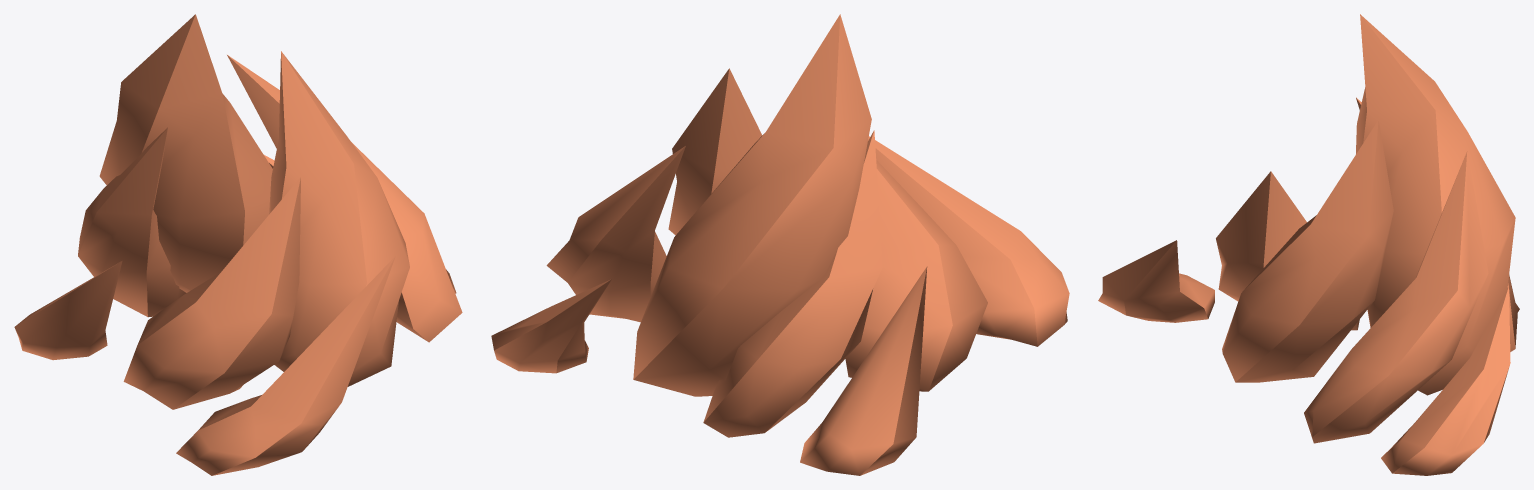
The model's file is rock3.glb.
3 renders of one model, left to right at view 1: azimuth 30°, elevation 25°; view 2: azimuth 150°, elevation 25°; view 3: azimuth 270°, elevation 25°, orthographic. The views are drawn at different scales.
Visible parts, largest first — view 1: rock_08; view 2: rock_08; view 3: rock_08.
Part boxes in pixels (left/top/right/bottom): rock_08: left=14, top=14, right=462, bottom=475; rock_08: left=491, top=14, right=1069, bottom=475; rock_08: left=1098, top=14, right=1519, bottom=475.
Bounding box in the file's own units: 50.3 × 42.4 × 48.03.
1 material, 1 textured.
